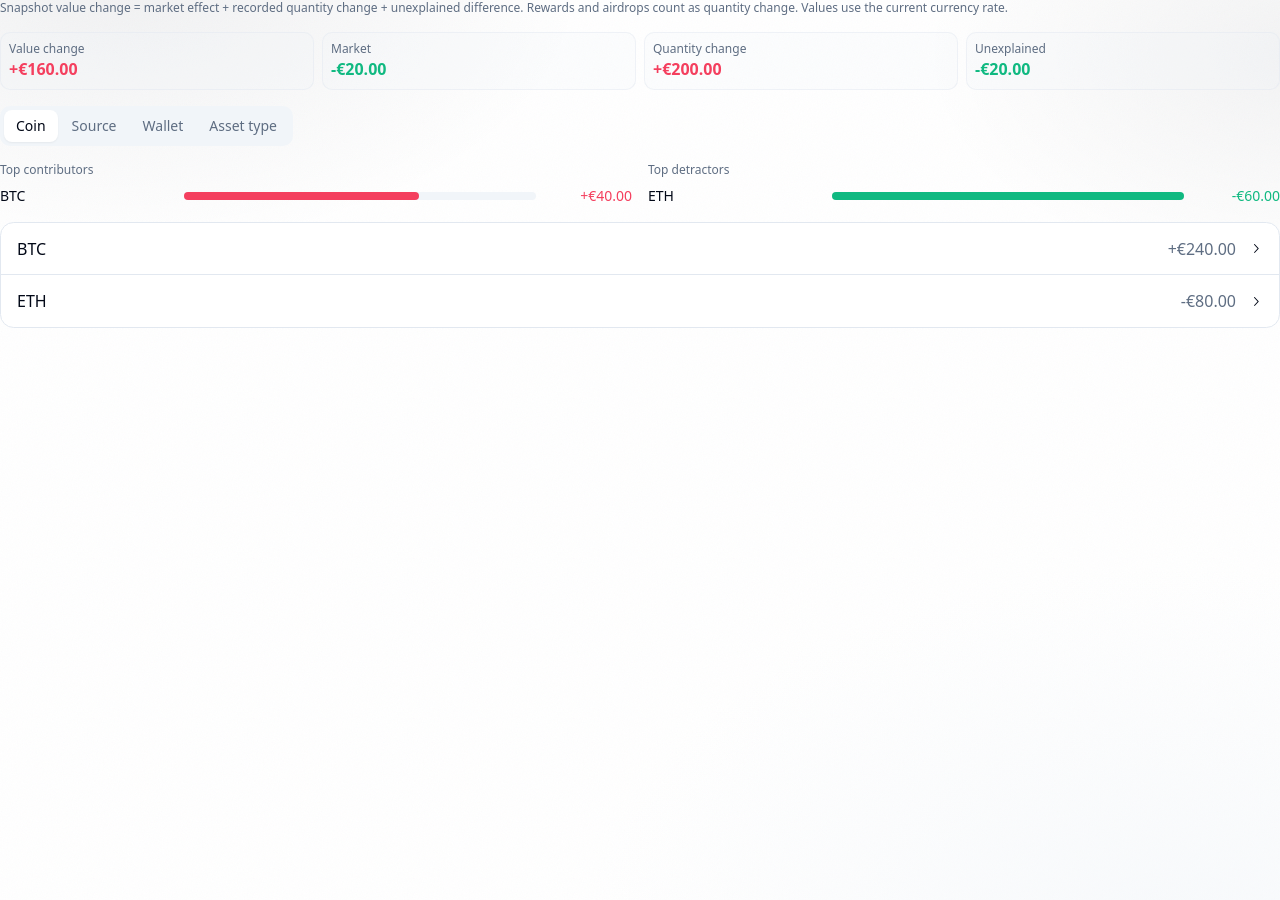
profit attribution › opens grouped attribution fields in a phone detail sheet
Expected: the heading "Top contributors" is shown, x1=0 y1=161 x2=94 y2=178
Click the button "BTC +€240.00" at [1202, 248], box x1=1 y1=223 x2=1279 y2=275
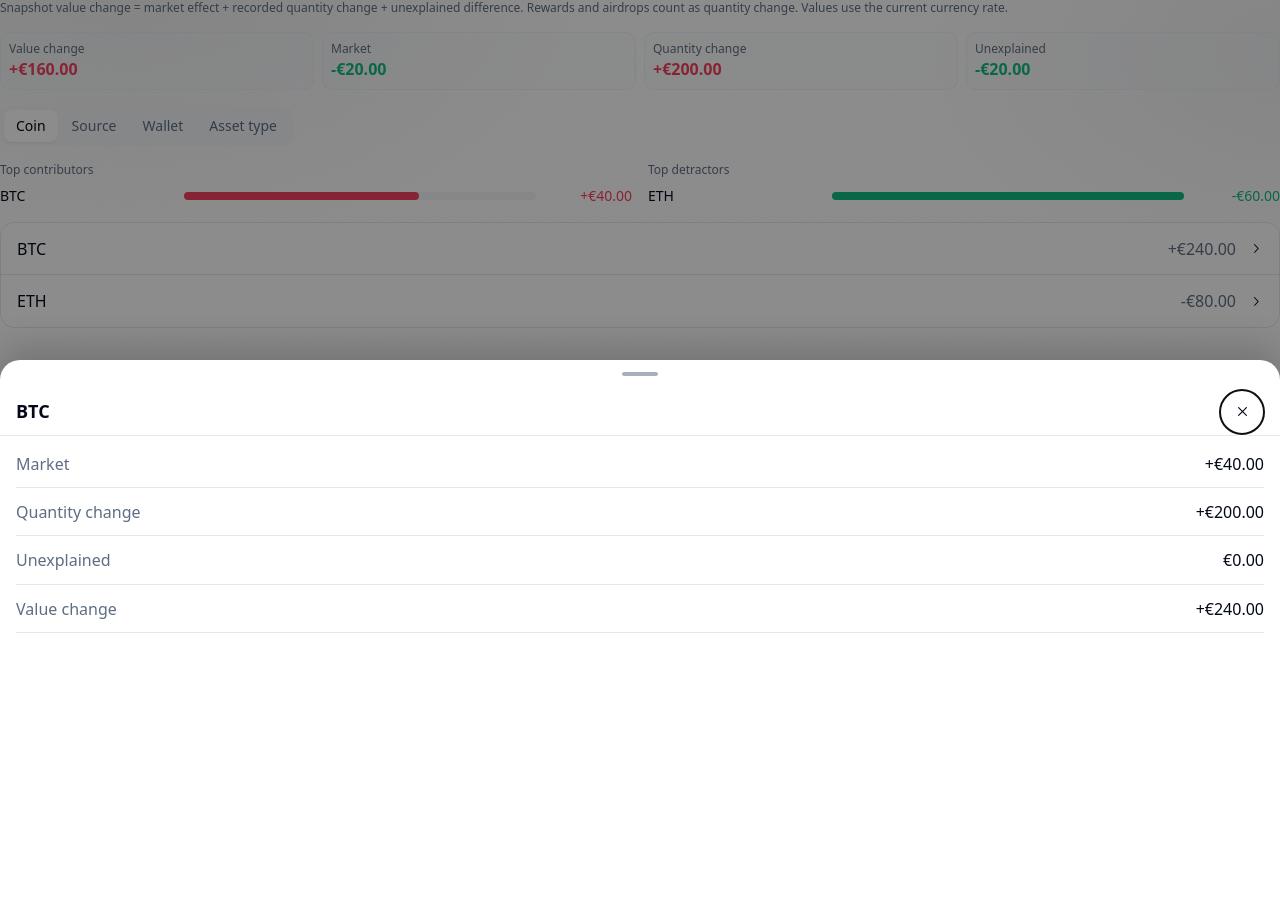
Expected: the text "Quantity change" is shown, x1=16 y1=500 x2=140 y2=524
Expected: the text "+€200.00" is shown, x1=1196 y1=500 x2=1264 y2=524
